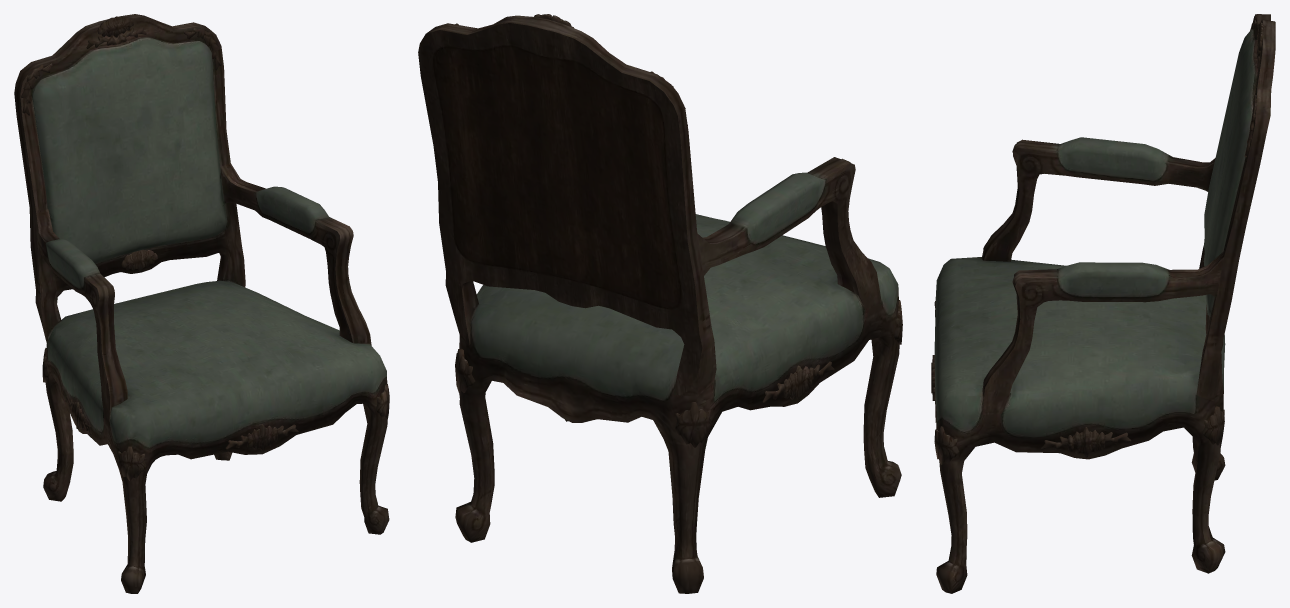
Rendered from GreenChair_01.glb.
3 views of the same model, side by side, from view 1: azimuth 30°, elevation 25°; view 2: azimuth 150°, elevation 25°; view 3: azimuth 270°, elevation 25° (orthographic). The views are drawn at different scales.
Parts seen in each view (by area): view 1: GreenChair_01; view 2: GreenChair_01; view 3: GreenChair_01.
Part boxes in pixels (x1,y1,x2,y2): GreenChair_01: (14, 14, 389, 593); GreenChair_01: (418, 14, 902, 593); GreenChair_01: (931, 14, 1275, 593).
Bounding box in the file's own units: 0.6732 × 1.06 × 0.6644.
Materials: 1 (1 with a texture image).
